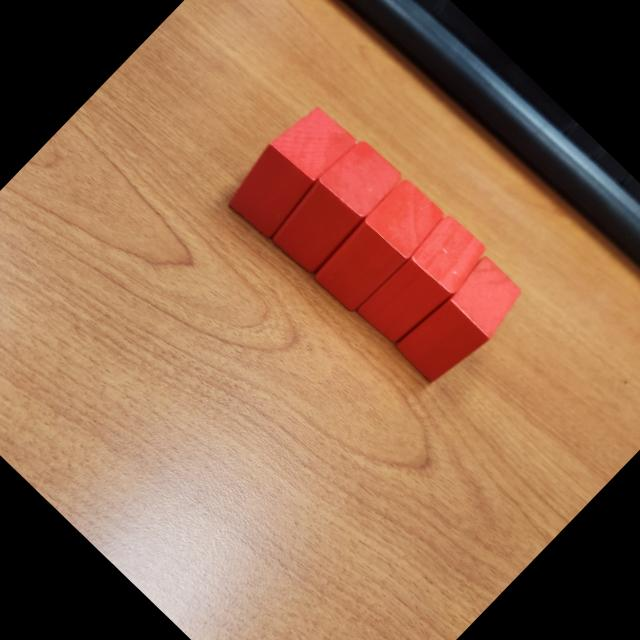red: (218, 98, 362, 242), (308, 174, 450, 318), (352, 211, 493, 354), (264, 134, 404, 278), (391, 252, 531, 392)
